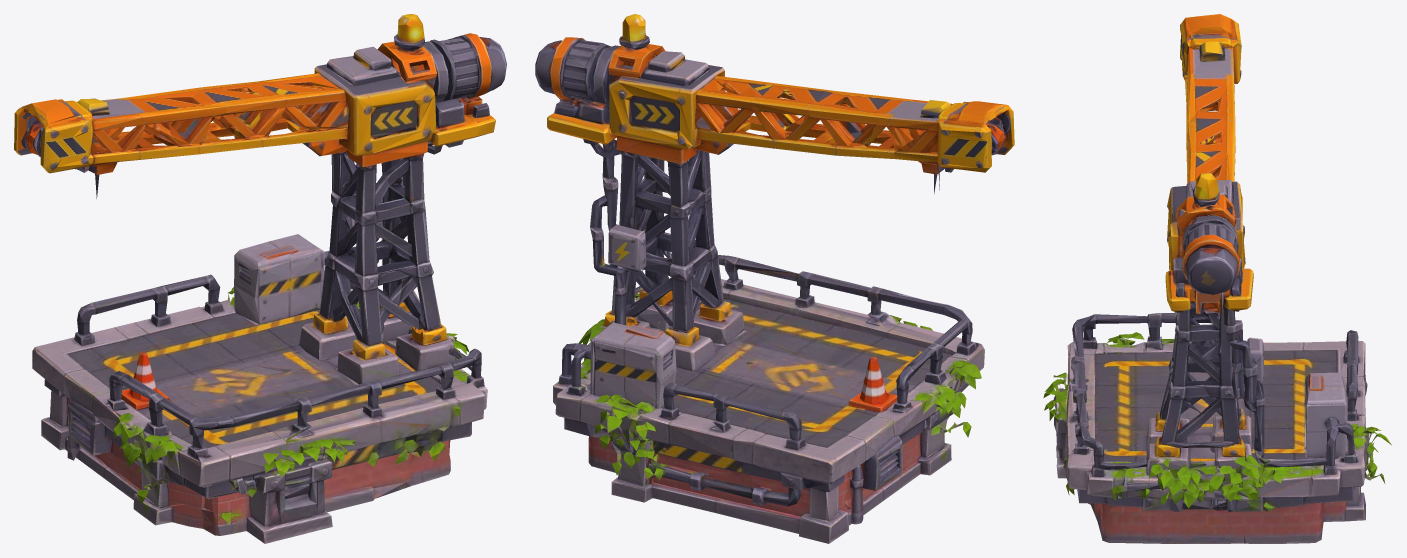
The model's file is crane_tower.glb.
3 views of the same model, side by side, from view 1: azimuth 30°, elevation 25°; view 2: azimuth 150°, elevation 25°; view 3: azimuth 270°, elevation 25° (orthographic). The views are drawn at different scales.
Parts seen in each view (by area): view 1: output_unwrapped; view 2: output_unwrapped; view 3: output_unwrapped.
Part boxes in pixels (x1=…): output_unwrapped: x1=14, y1=14, x2=506, y2=543; output_unwrapped: x1=535, y1=14, x2=1014, y2=543; output_unwrapped: x1=1043, y1=14, x2=1391, y2=543.
Size of what is drawn, in the model's own units: 1.2 by 1 by 0.8438.
Materials: 1 (1 with a texture image).
